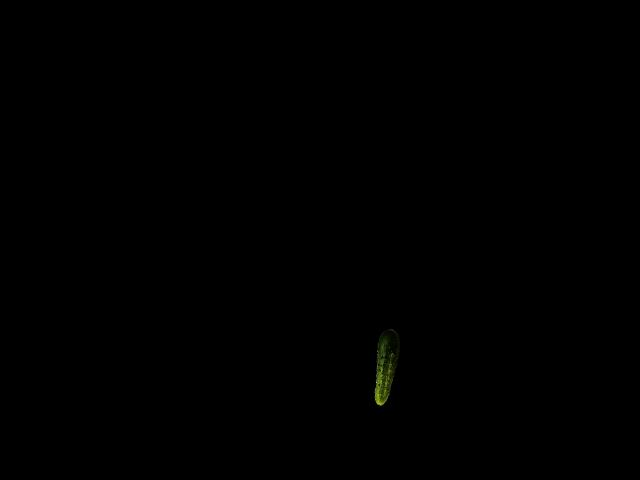cucumber: (369, 326, 403, 406)
